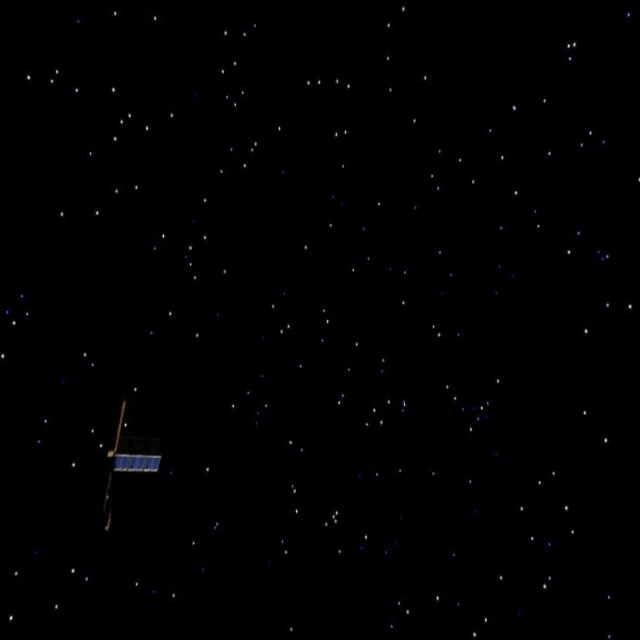satellite: (85, 387, 167, 533)
